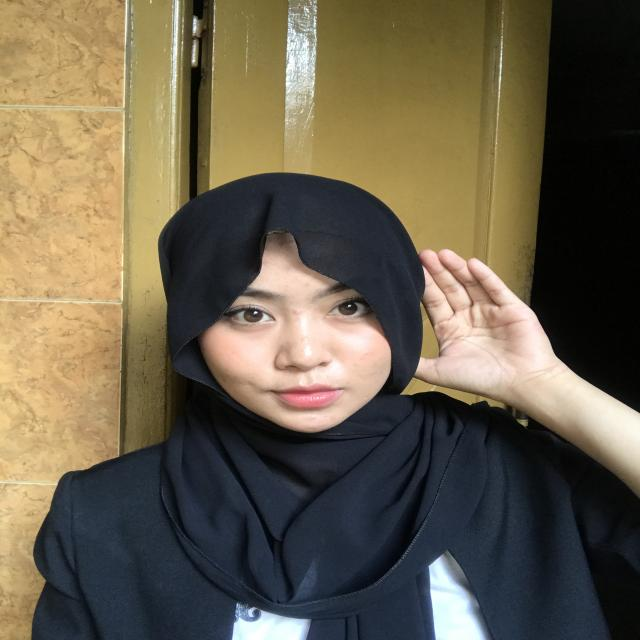mendengar: (392, 238, 576, 427)
